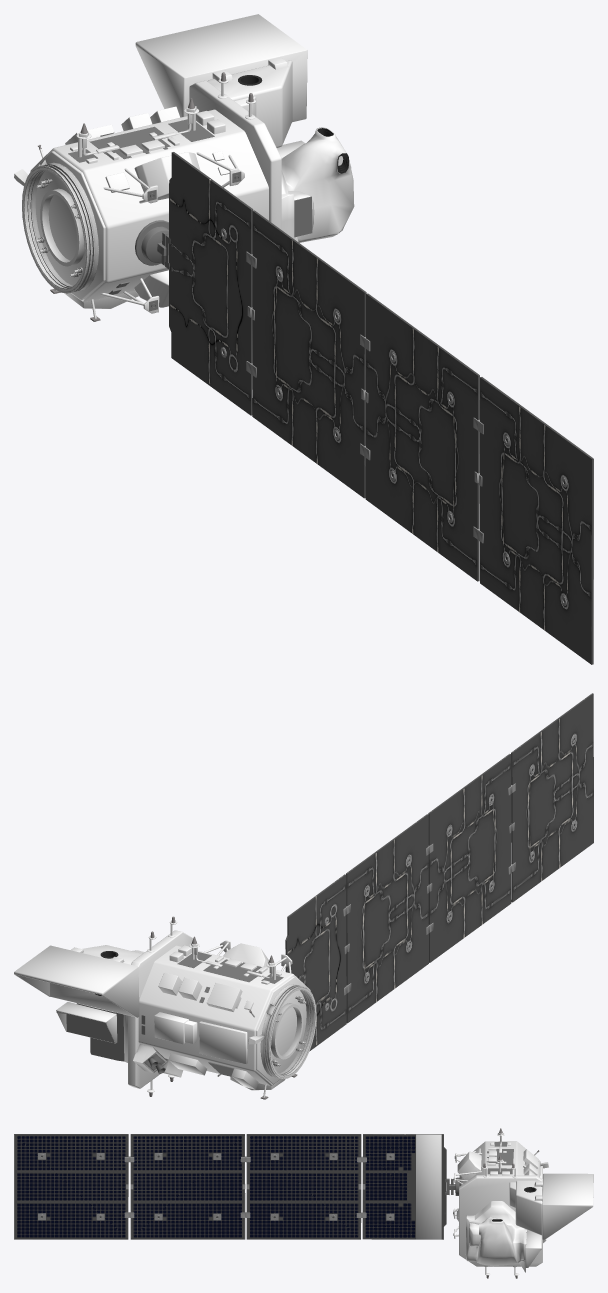
The model's file is sc_landsat9.glb.
3 renders of one model, top to bottom at view 1: azimuth 30°, elevation 25°; view 2: azimuth 150°, elevation 25°; view 3: azimuth 270°, elevation 25°, orthographic. The views are drawn at different scales.
Parts seen in each view (by area): view 1: solarPanels, OLI, BUS, BUS_instruments, baked_instruments, solarPanelHinges, BUS_plates, solarPanels_base, solarPanels_gimbal; view 2: solarPanels, BUS, BUS_instruments, OLI, baked_instruments, OLI_plates, BUS_plates, solarPanelHinges; view 3: solarPanels, OLI, BUS, solarPanels_foil, BUS_instruments, solarPanelHinges, BUS_plates, solarPanels_base.
Part boxes in pixels (left/top/right/bottom): solarPanels: left=169, top=152, right=593, bottom=664; OLI: left=135, top=14, right=354, bottom=242; BUS: left=30, top=80, right=281, bottom=302; BUS_instruments: left=38, top=72, right=255, bottom=321; baked_instruments: left=14, top=159, right=98, bottom=293; solarPanelHinges: left=220, top=228, right=567, bottom=605; BUS_plates: left=68, top=119, right=214, bottom=294; solarPanels_base: left=100, top=152, right=244, bottom=313; solarPanels_gimbal: left=135, top=220, right=170, bottom=269; solarPanels: left=285, top=693, right=593, bottom=1051; BUS: left=128, top=930, right=310, bottom=1088; BUS_instruments: left=147, top=916, right=297, bottom=1099; OLI: left=14, top=945, right=144, bottom=1062; baked_instruments: left=133, top=984, right=316, bottom=1079; OLI_plates: left=56, top=1003, right=124, bottom=1061; BUS_plates: left=141, top=952, right=283, bottom=1076; solarPanelHinges: left=324, top=735, right=576, bottom=1010; solarPanels: left=14, top=1134, right=446, bottom=1239; OLI: left=465, top=1173, right=593, bottom=1272; BUS: left=459, top=1141, right=542, bottom=1266; solarPanels_foil: left=416, top=1134, right=441, bottom=1239; BUS_instruments: left=456, top=1128, right=542, bottom=1278; solarPanelHinges: left=38, top=1153, right=394, bottom=1220; BUS_plates: left=459, top=1142, right=525, bottom=1185; solarPanels_base: left=453, top=1151, right=481, bottom=1238.
Bounding box in the file's own units: 0.5676 × 0.4149 × 1.89.
Materials: 11 (2 with a texture image).
